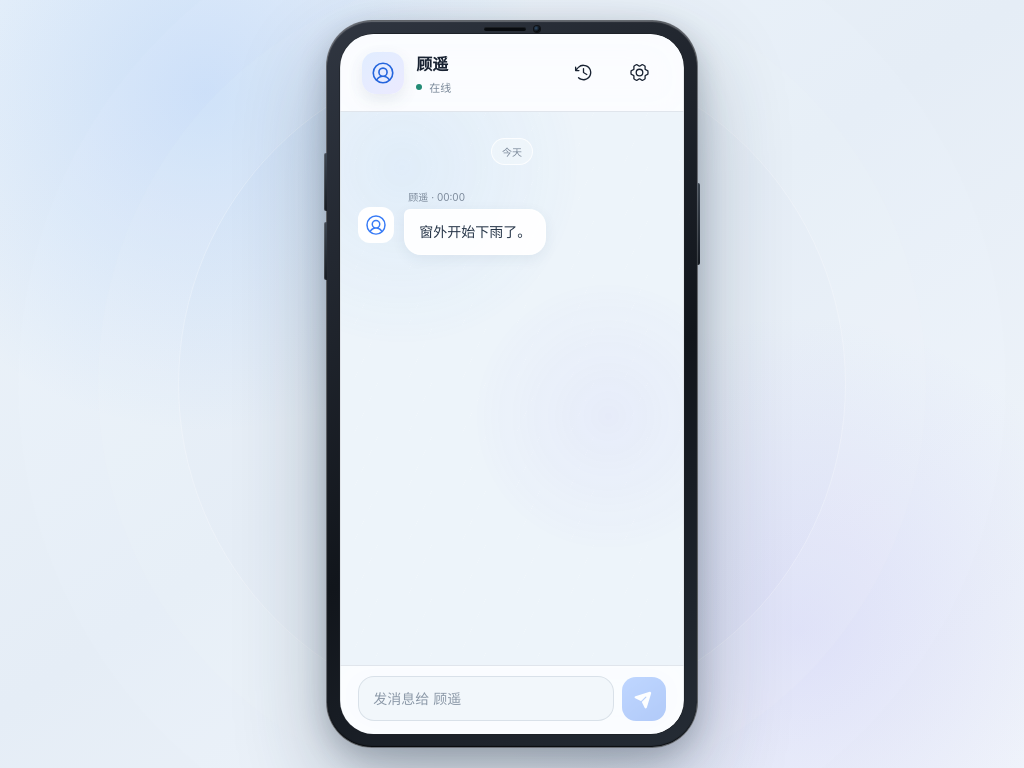
it: SillyTavern character chat app › creates and opens a new conversation from conversation history
This screenshot has width=1024, height=768.
Expected: the heading "顾遥" is shown, [416,50,448,74]
Click the button named "打开会话历史" at {"x": 584, "y": 72}, box [562,50,606,94]
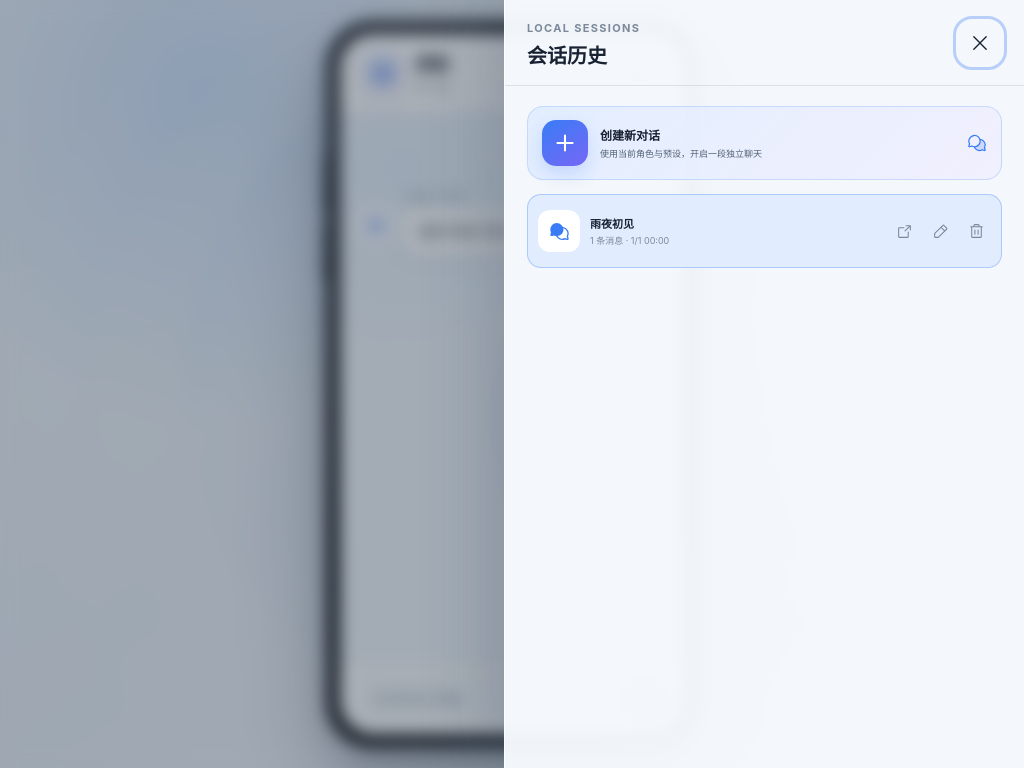
Click the button "创建新对话 使用当前角色与预设，开启一段独立聊天" at {"x": 565, "y": 143}, box [527,106,1002,180]
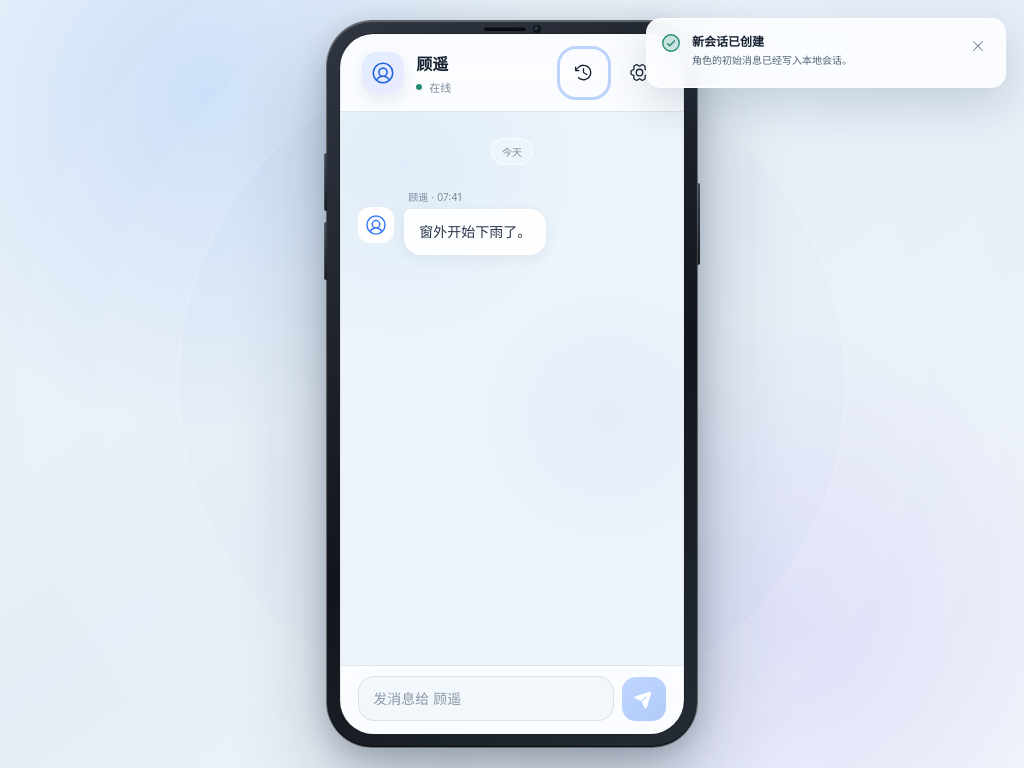
Now the heading "会话历史" is gone
